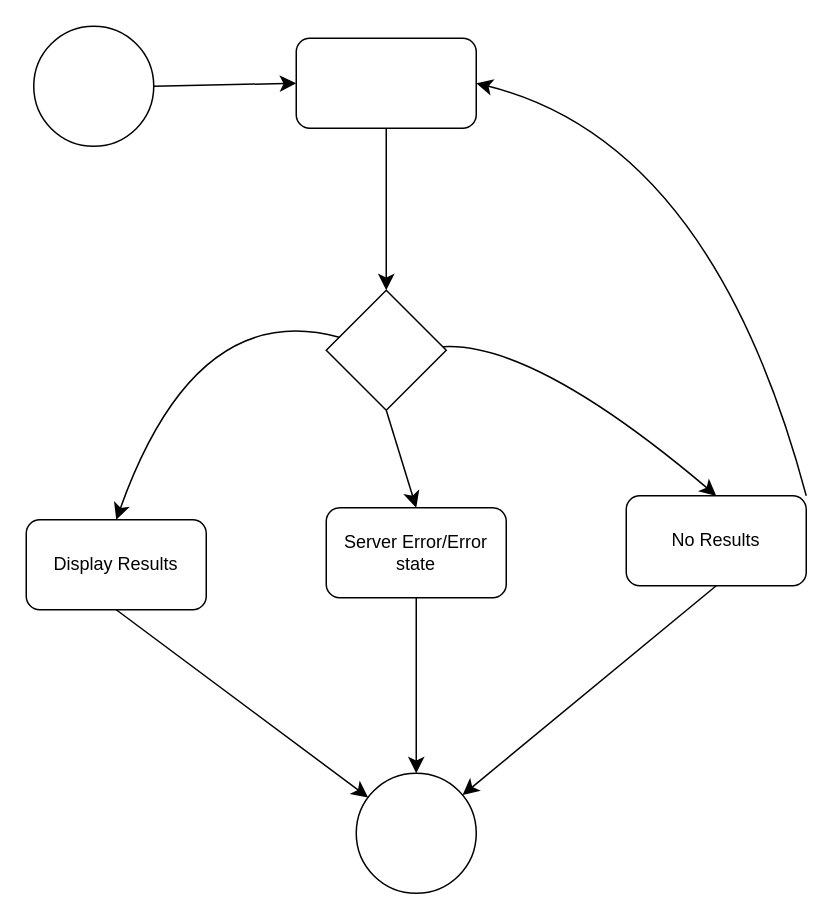
This 833x920 diagram has some shape labels left out. Each missing label, with the centre of its shape:
Enter Search Word: the point at 385,82
Fetch Results: the point at 385,349
